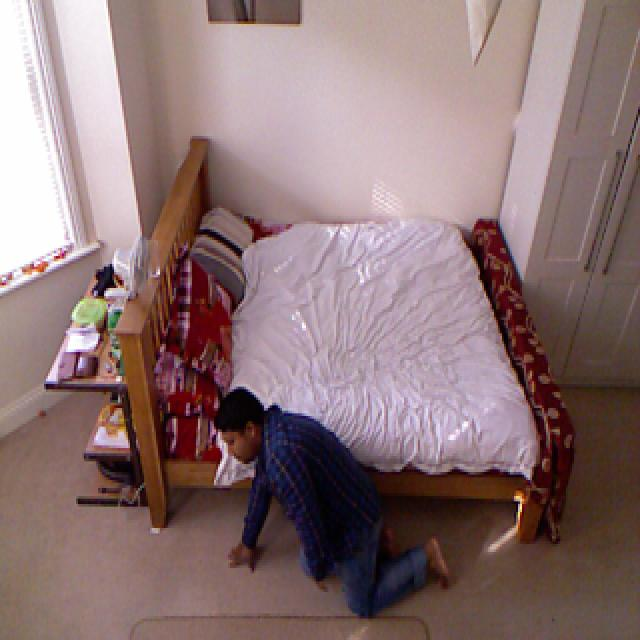crawling: (199, 386, 477, 626)
